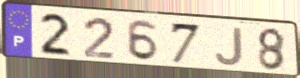2: (38, 12, 74, 60), (82, 16, 117, 61)
6: (125, 19, 160, 62)
7: (167, 21, 205, 65)
8: (256, 27, 288, 73)
J: (213, 26, 245, 67)
